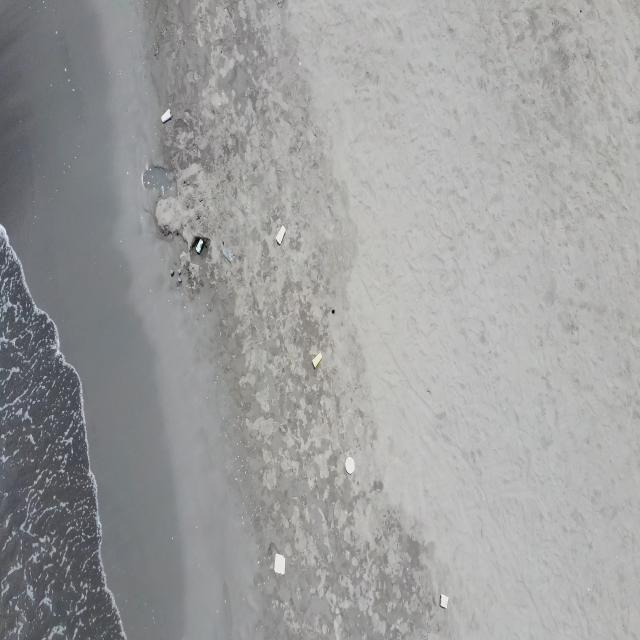take-away-containers: (274, 552, 286, 576), (439, 591, 449, 611), (345, 456, 355, 474)
takeaway-cup: (161, 108, 172, 125), (312, 352, 323, 369), (276, 226, 286, 244), (195, 238, 204, 255), (223, 248, 233, 262)
